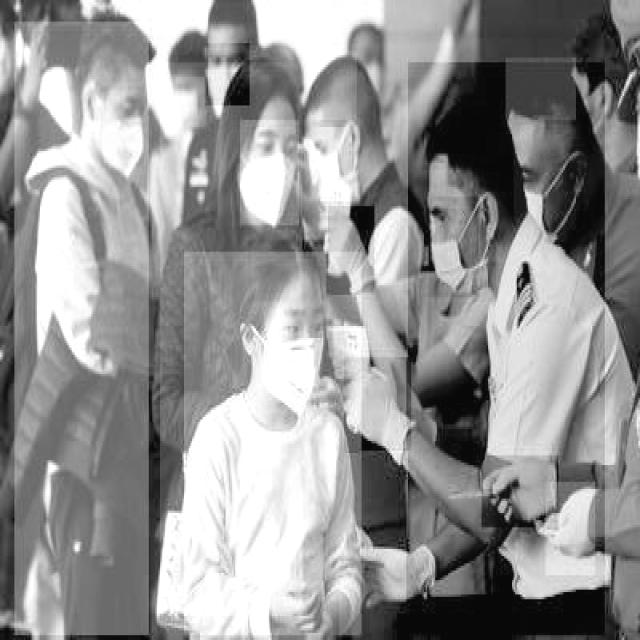face_mask: (259, 300, 323, 414), (238, 120, 300, 228), (512, 144, 566, 244), (429, 197, 478, 297), (99, 86, 144, 170), (309, 127, 352, 204), (204, 43, 250, 108), (174, 77, 207, 129)
hand_glove: (344, 357, 411, 453), (480, 455, 558, 530), (360, 540, 435, 612), (544, 482, 595, 578), (326, 206, 374, 295)
hand_noglove: (264, 578, 322, 638), (301, 587, 339, 638)
head_nohelmet: (421, 94, 491, 172), (504, 58, 576, 122), (88, 17, 165, 74), (248, 240, 317, 302), (306, 53, 356, 122), (197, 2, 261, 38)
person: (406, 62, 605, 638), (13, 22, 149, 638), (158, 62, 302, 616), (182, 252, 362, 638)
